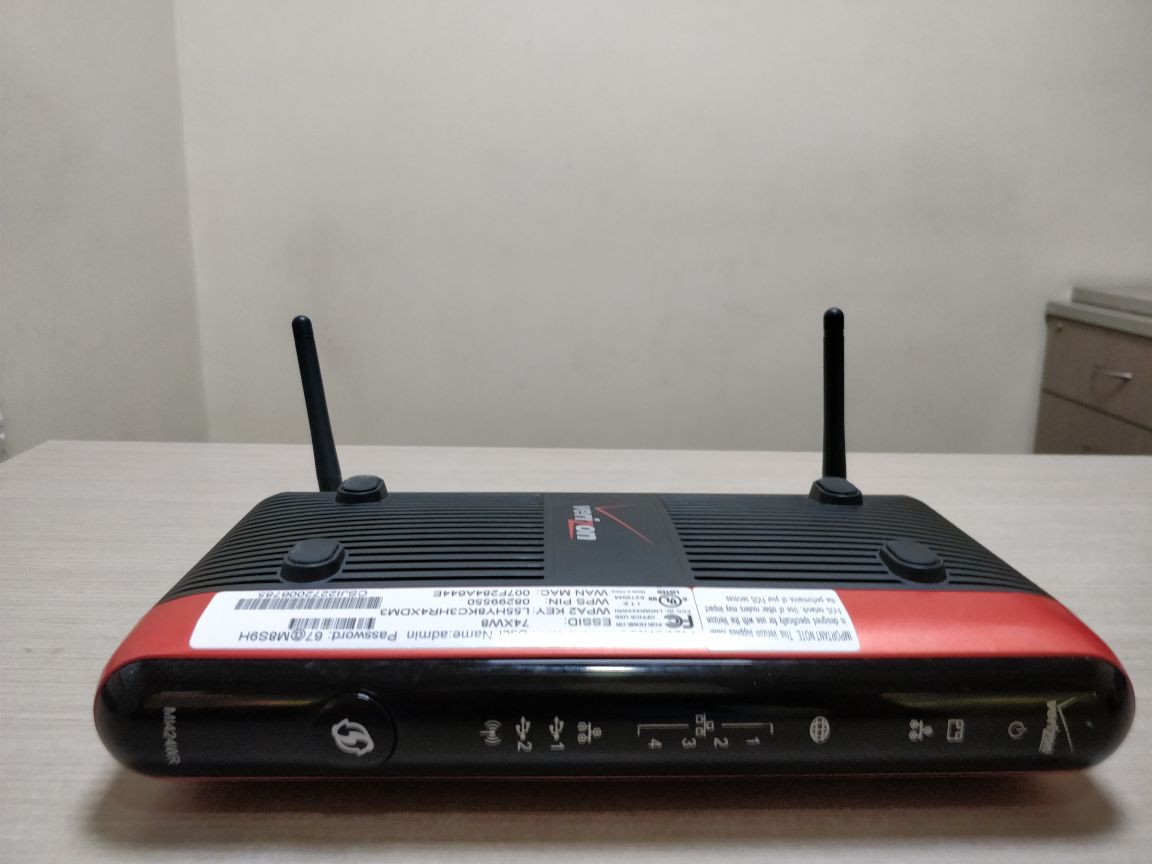Verizon Router: (65, 279, 1146, 843)
